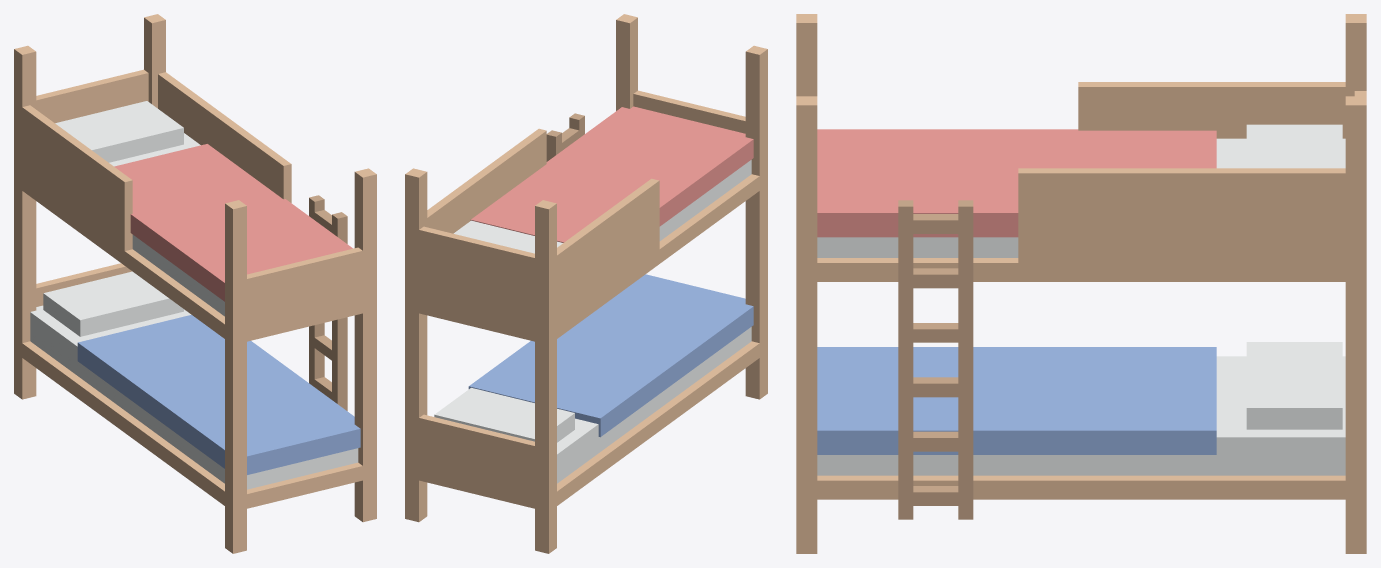
File: kidsBunkLadder.glb
3 renders of one model, left to right at view 1: azimuth 30°, elevation 25°; view 2: azimuth 150°, elevation 25°; view 3: azimuth 270°, elevation 25°, orthographic. The views are drawn at different scales.
Parts seen in each view (by area): view 1: kidsBunkLadder; view 2: kidsBunkLadder; view 3: kidsBunkLadder.
Boxes of the visible parts, box(x1,y1,x2,y2) form: kidsBunkLadder: box(14, 14, 376, 553); kidsBunkLadder: box(405, 14, 767, 553); kidsBunkLadder: box(796, 14, 1366, 553).
Bounding box in the file's own units: 0.385 × 0.825 × 0.95.
